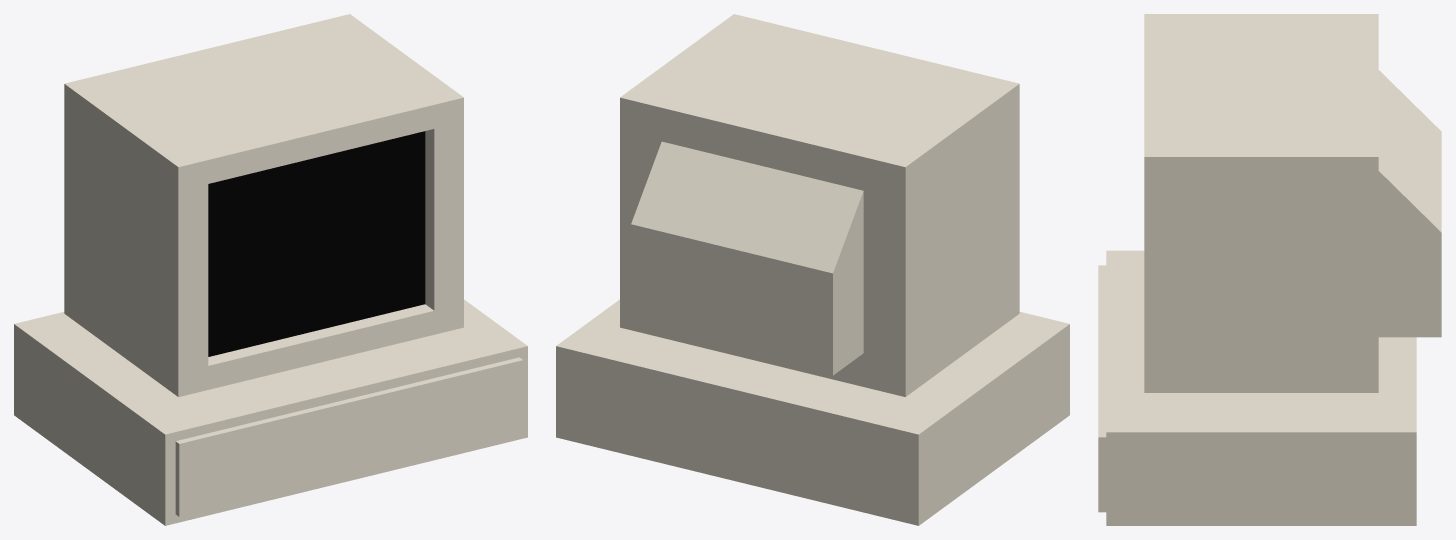
Rendered from computer.glb.
The picture shows the model from 3 angles, left to right: view 1: azimuth 30°, elevation 25°; view 2: azimuth 150°, elevation 25°; view 3: azimuth 270°, elevation 25°; orthographic projection. The views are drawn at different scales.
Parts seen in each view (by area): view 1: Cylinder, Cube.001; view 2: Cylinder; view 3: Cylinder, Cube.001.
Boxes of the visible parts, bbox=[...] form: Cylinder: bbox=[14, 14, 527, 525]; Cube.001: bbox=[175, 357, 523, 516]; Cylinder: bbox=[556, 14, 1069, 525]; Cylinder: bbox=[1106, 14, 1441, 525]; Cube.001: bbox=[1098, 265, 1106, 512].
Bounding box in the file's own units: 8.31 × 7.39 × 6.63.
